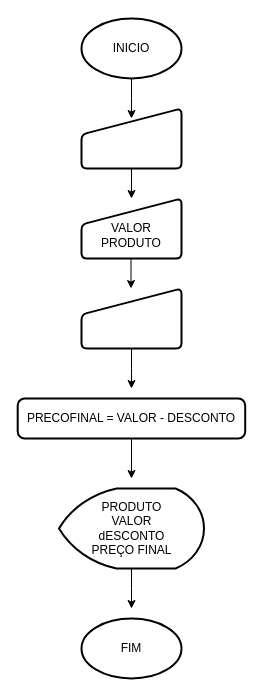
Some shapes in this 264 by 696 pixel diagram are drawn without their labels. Here are the shapes that lost their labels. From the top down, the centre of each, then its label:
At [131,138]: "PRODUTO".
At [131,318]: "DESCONTO".
